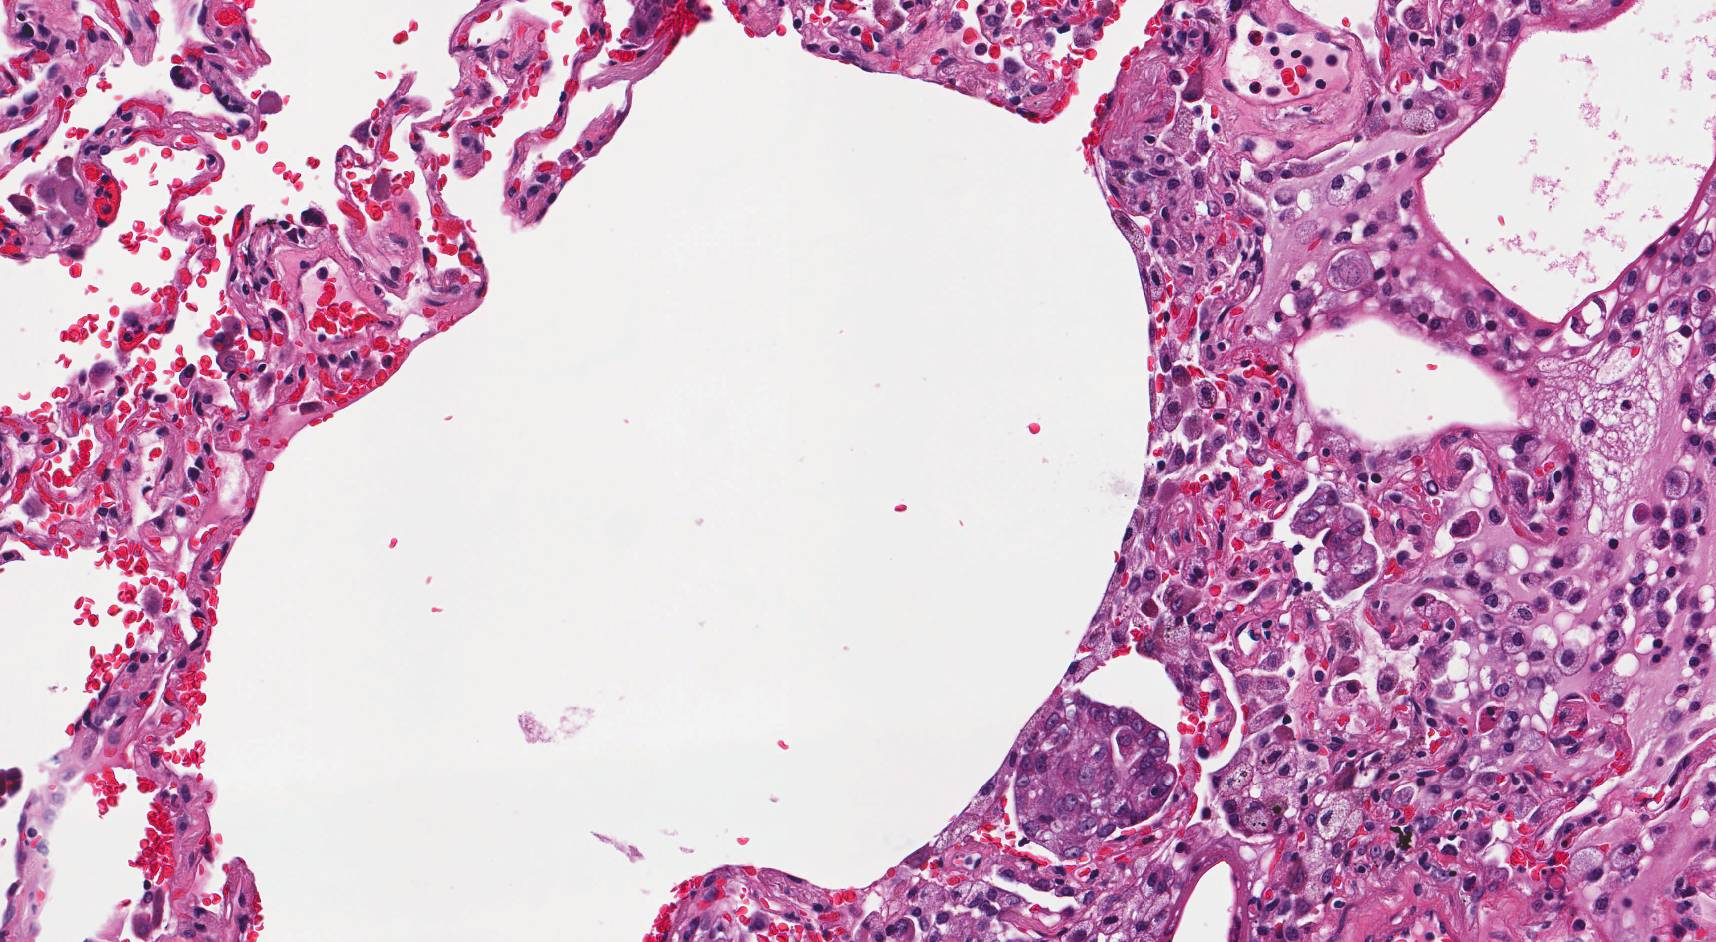stas: (1011, 694, 1172, 861), (1291, 483, 1380, 598)
